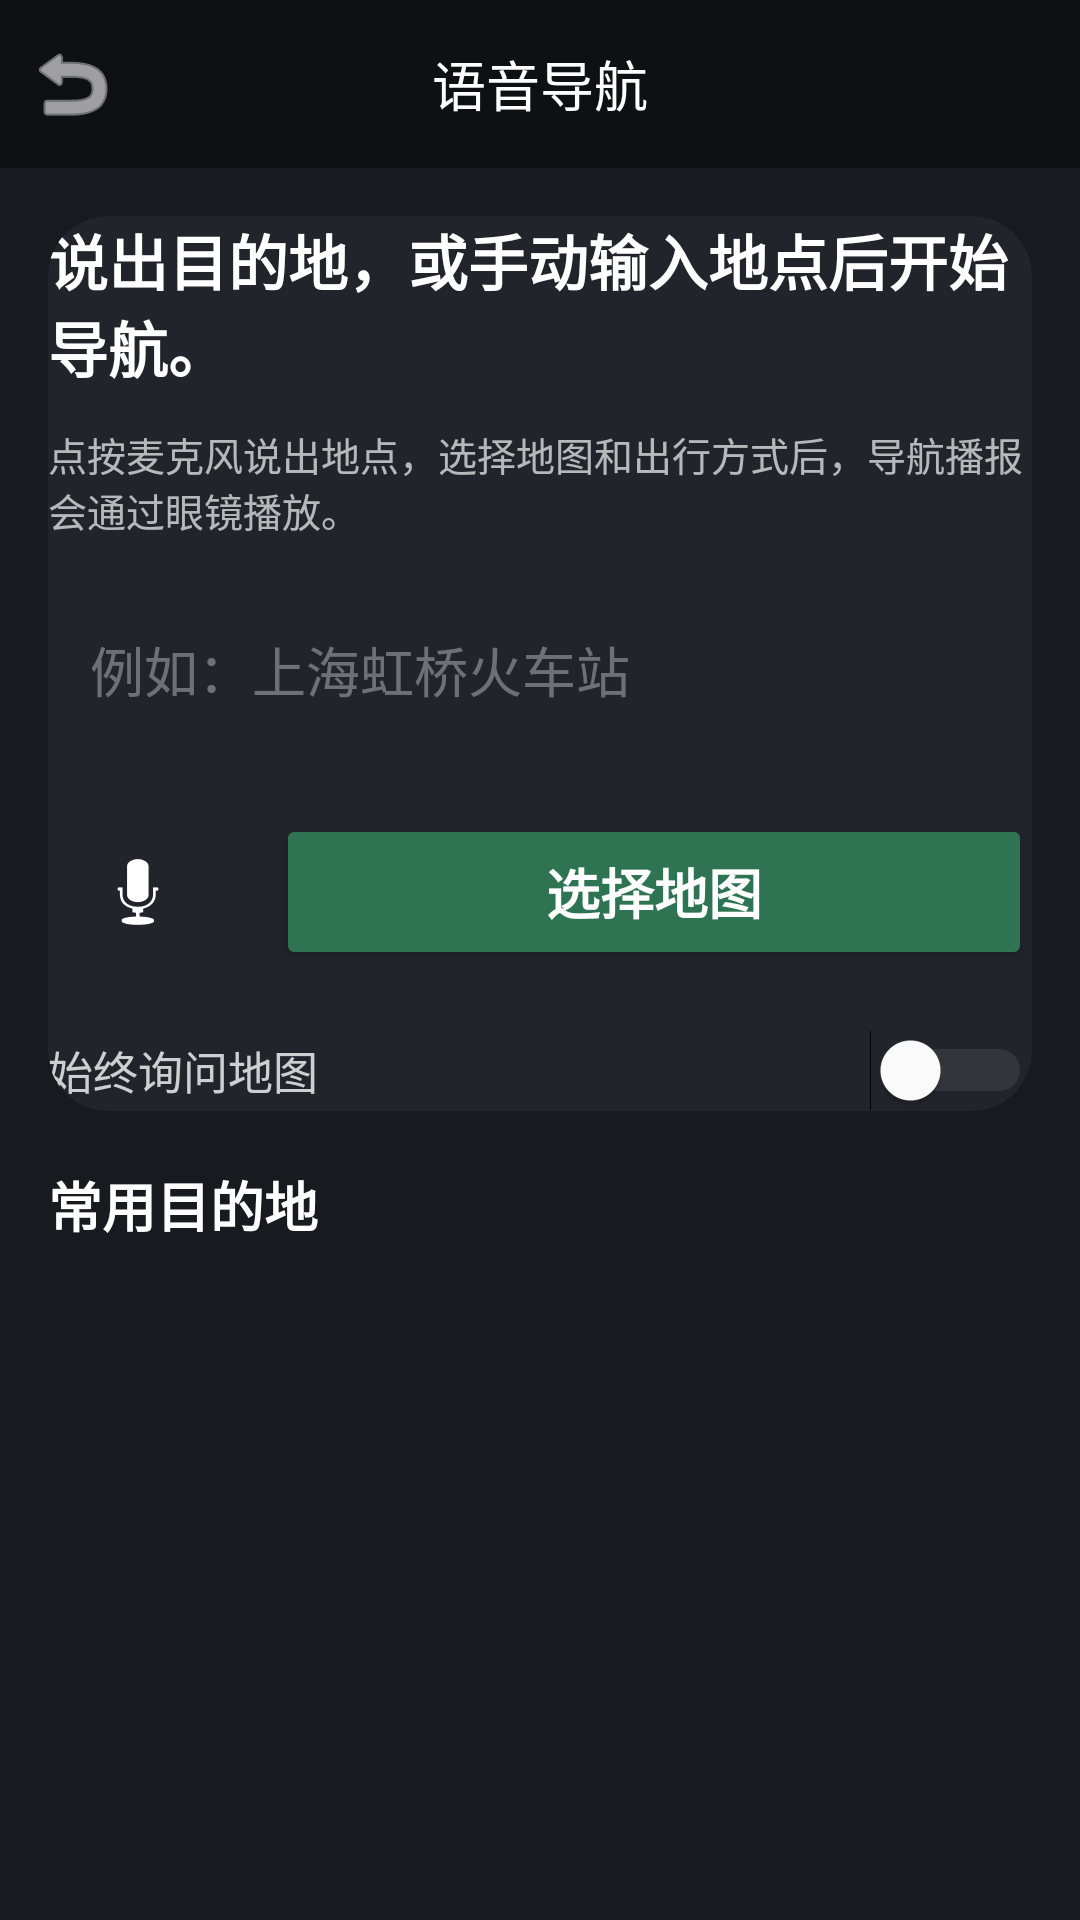

Where to tap for icons on this 1080 × 1920 app screen, as (x=x, y=y):
revert: (x=73, y=84)
speak now: (x=138, y=892)
